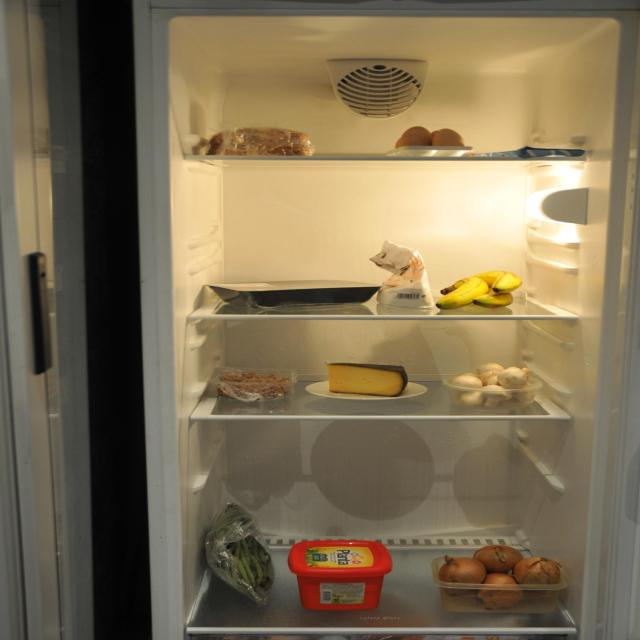banana: (435, 268, 528, 310)
bread: (208, 125, 318, 160)
butter: (291, 540, 394, 612)
chocolate: (477, 146, 590, 160)
eggs: (394, 124, 467, 158)
flour: (372, 240, 437, 309)
green_beans: (204, 504, 277, 606)
mid_seasoned_cheese: (327, 362, 406, 399)
mushrooms: (448, 361, 542, 408)
onions: (431, 542, 568, 612)
shrimp: (209, 366, 297, 404)
